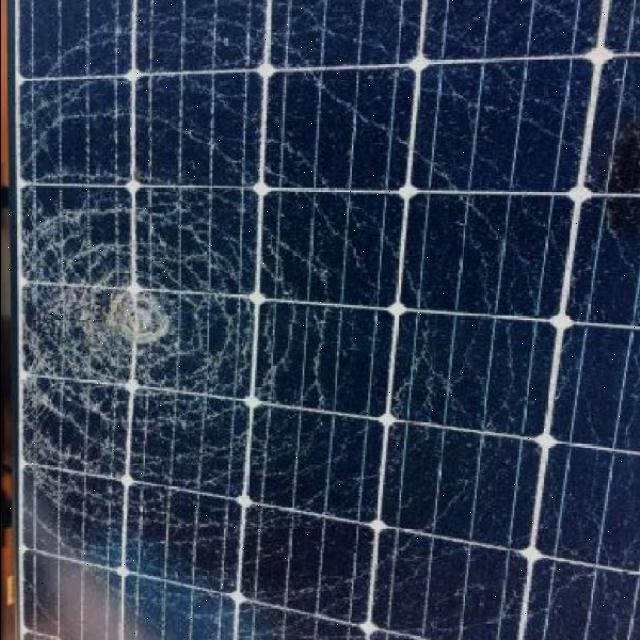Anomaly Solar Panel: (15, 0, 640, 640)
Structural Damage: (22, 170, 316, 471)
